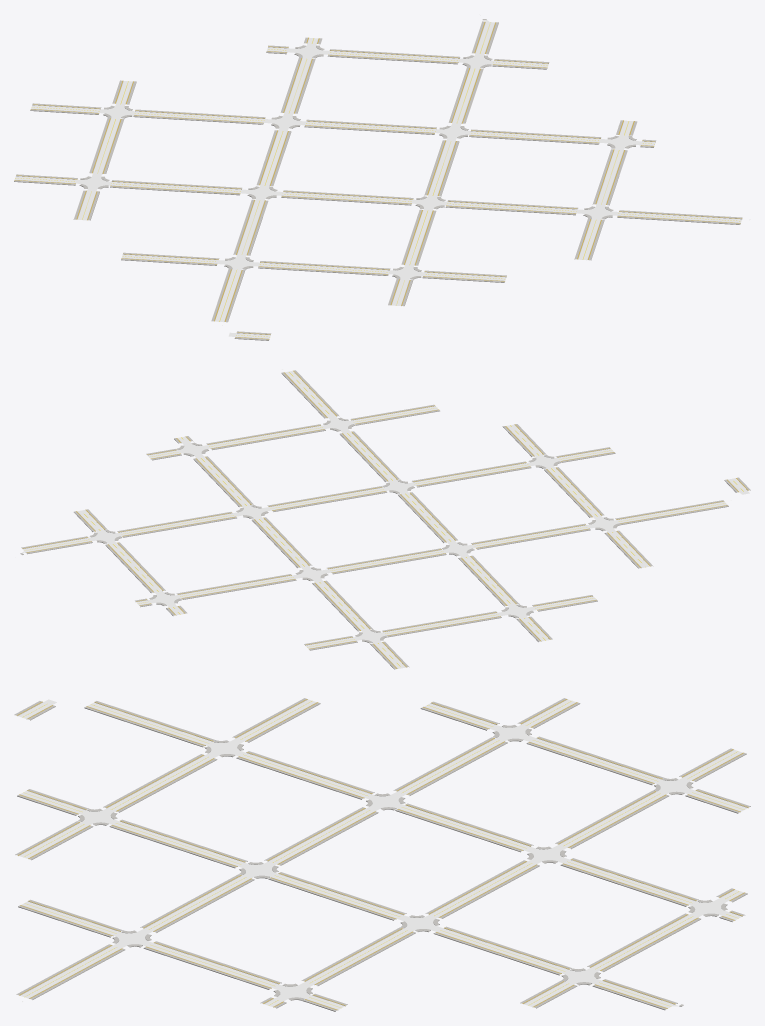
File: roads_0_1.gltf
3 views of the same model, one above another, from view 1: azimuth 30°, elevation 25°; view 2: azimuth 150°, elevation 25°; view 3: azimuth 270°, elevation 25° (orthographic). The views are drawn at different scales.
Visible parts, largest first — view 1: roads_0_1_SH_wet_asphalt, roads_0_1_SH_sidewalk, roads_0_1_Road_Tactile_Strip, roads_0_1_SH_kerb, roads_0_1_SH_road_marking_white, roads_0_1_SH_road_marking_yellow; view 2: roads_0_1_SH_wet_asphalt, roads_0_1_SH_sidewalk, roads_0_1_Road_Tactile_Strip, roads_0_1_SH_kerb, roads_0_1_SH_road_marking_white, roads_0_1_SH_road_marking_yellow; view 3: roads_0_1_SH_wet_asphalt, roads_0_1_SH_sidewalk, roads_0_1_Road_Tactile_Strip, roads_0_1_SH_kerb, roads_0_1_SH_road_marking_yellow, roads_0_1_SH_road_marking_white.
Part boxes in pixels (box(x1,y1,x2,y2)): roads_0_1_SH_wet_asphalt: box(14, 14, 750, 338); roads_0_1_SH_sidewalk: box(14, 19, 742, 340); roads_0_1_Road_Tactile_Strip: box(14, 22, 741, 339); roads_0_1_SH_kerb: box(16, 19, 741, 338); roads_0_1_SH_road_marking_white: box(19, 22, 738, 335); roads_0_1_SH_road_marking_yellow: box(15, 22, 739, 337); roads_0_1_SH_wet_asphalt: box(15, 369, 749, 668); roads_0_1_SH_sidewalk: box(21, 370, 750, 669); roads_0_1_Road_Tactile_Strip: box(22, 370, 748, 668); roads_0_1_SH_kerb: box(20, 371, 747, 668); roads_0_1_SH_road_marking_white: box(30, 371, 746, 668); roads_0_1_SH_road_marking_yellow: box(30, 372, 743, 666); roads_0_1_SH_wet_asphalt: box(18, 699, 747, 1009); roads_0_1_SH_sidewalk: box(14, 698, 750, 1011); roads_0_1_Road_Tactile_Strip: box(17, 699, 748, 1009); roads_0_1_SH_kerb: box(17, 699, 747, 1009); roads_0_1_SH_road_marking_yellow: box(22, 701, 744, 1007); roads_0_1_SH_road_marking_white: box(18, 700, 743, 1006).
Size of what is drawn, in the model's own units: 530 by 0.506 by 527.
